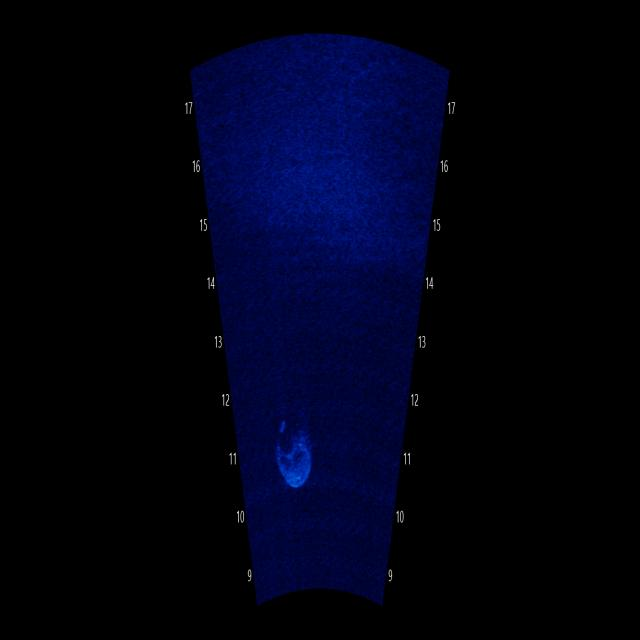circle: (267, 392, 320, 507)
